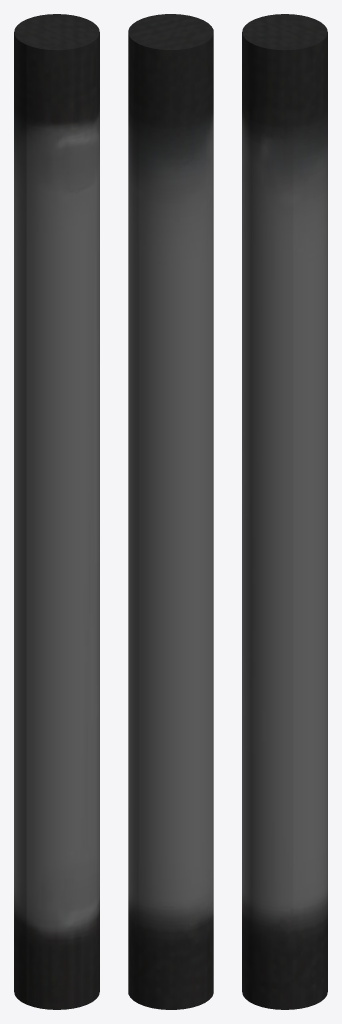
Rendered from center_frame__rear_crossmember.glb.
3 views of the same model, side by side, from view 1: azimuth 90°, elevation 25°; view 2: azimuth 210°, elevation 25°; view 3: azimuth 270°, elevation 25° (orthographic).
Parts seen in each view (by area): view 1: geometry_0; view 2: geometry_0; view 3: geometry_0.
Part boxes in pixels (x1=…): geometry_0: x1=14, y1=14, x2=99, y2=1009; geometry_0: x1=128, y1=14, x2=213, y2=1009; geometry_0: x1=242, y1=14, x2=327, y2=1009.
Bounding box in the file's own units: 0.034 × 0.42 × 0.034.
1 material, 1 textured.
